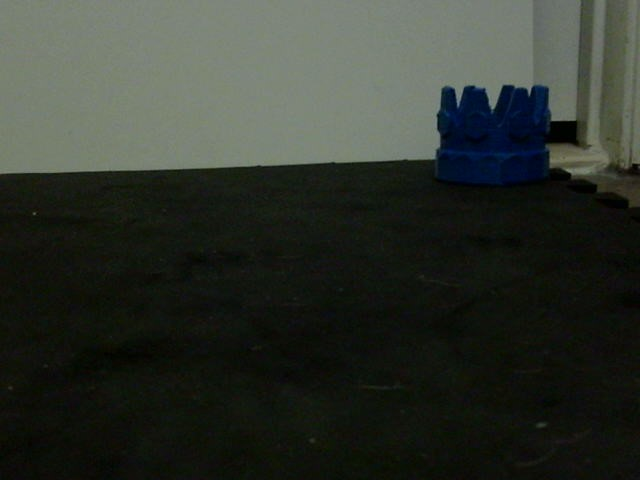crown: (433, 85, 554, 185)
